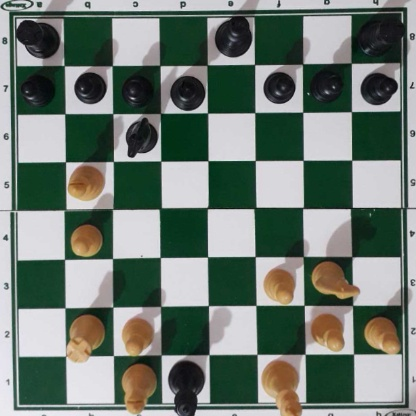black-bishop: (167, 75, 206, 112)
black-king: (212, 15, 253, 58)
black-knight: (123, 115, 158, 158)
black-pawn: (360, 69, 396, 105), (310, 68, 344, 102), (262, 68, 295, 102), (20, 72, 54, 104), (73, 70, 105, 104), (121, 72, 153, 106)
black-queen: (168, 359, 206, 416)
black-rook: (13, 16, 61, 58), (358, 17, 405, 55)
white-bishop: (121, 361, 157, 413), (66, 165, 105, 202)
white-king: (260, 359, 304, 416)
white-knight: (309, 257, 361, 299)
white-pawn: (308, 311, 347, 350), (262, 266, 297, 306), (363, 315, 400, 352), (120, 316, 154, 356), (69, 223, 104, 258)
white-rook: (64, 313, 105, 364)
